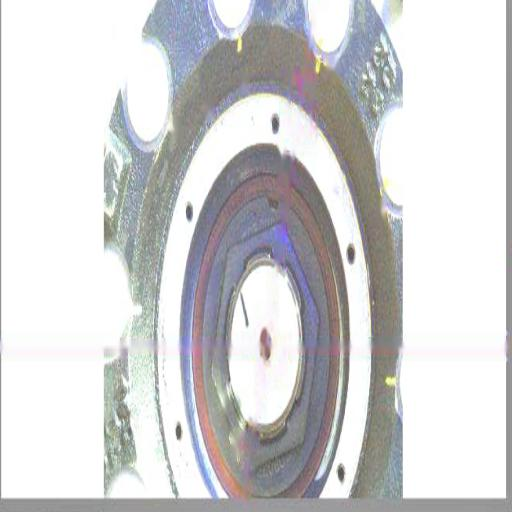center: (256, 323, 274, 362)
notch: (264, 190, 282, 224)
